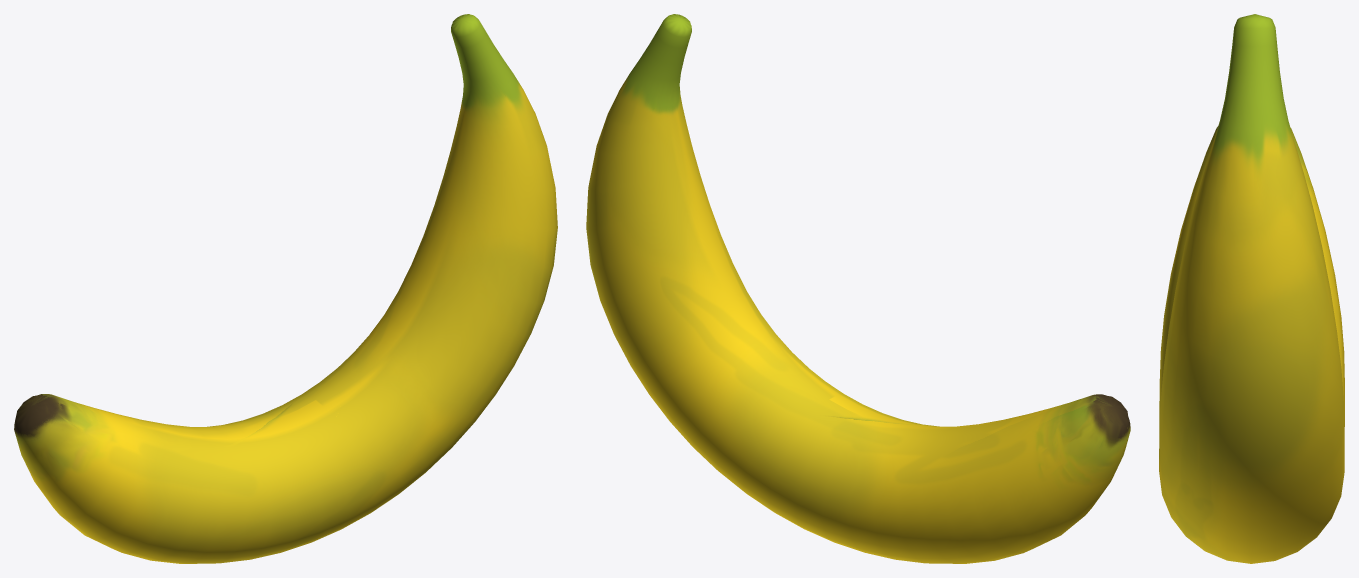
Rendered from pisang.fbx.
3 renders of one model, left to right at view 1: azimuth 30°, elevation 25°; view 2: azimuth 150°, elevation 25°; view 3: azimuth 270°, elevation 25°, orthographic. The views are drawn at different scales.
Parts seen in each view (by area): view 1: Torus; view 2: Torus; view 3: Torus.
Part boxes in pixels (bbox=[...]): Torus: bbox=[14, 14, 557, 563]; Torus: bbox=[586, 14, 1130, 563]; Torus: bbox=[1159, 14, 1344, 563].
Size of the model in its own units: 211 by 183 by 47.86.
